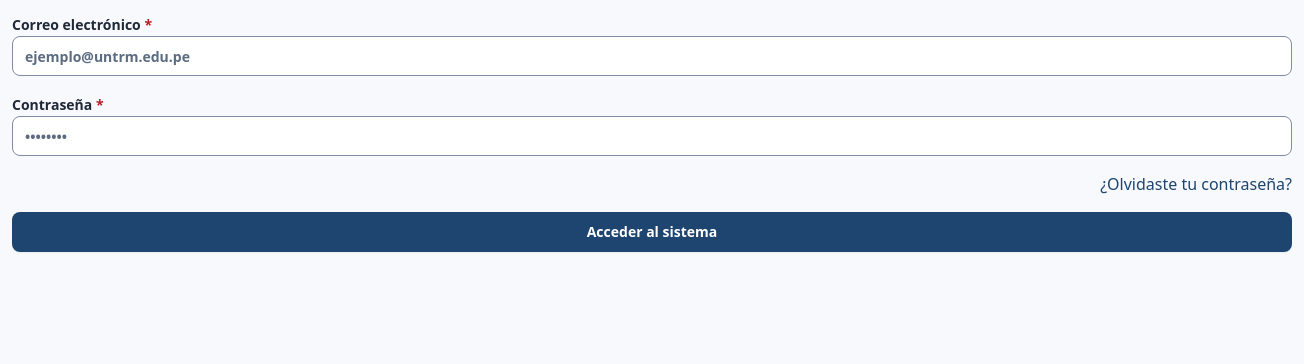
LoginForm component › shows generic credentials error on UNAUTHORIZED (CA2)
Type "usuario@untrm.edu.pe" into the field labelled "Correo electrónico *". click: coordinates (652, 56)
box: [12,36,1292,76]
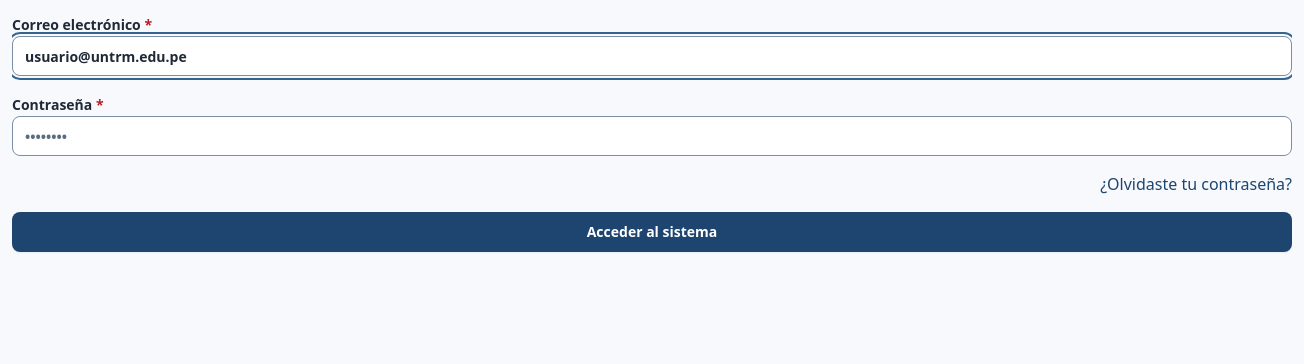
Type "ContraseñaInvalida123" into the password field labelled "Contraseña *". click: coordinates (652, 136)
box: [12,116,1292,156]
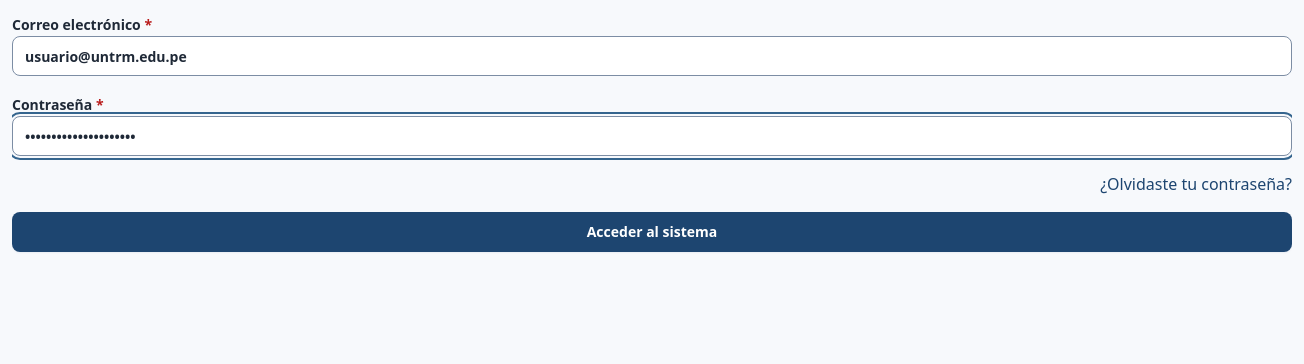
Click the button "Acceder al sistema". click: coordinates (652, 232)
box: [12,212,1292,252]
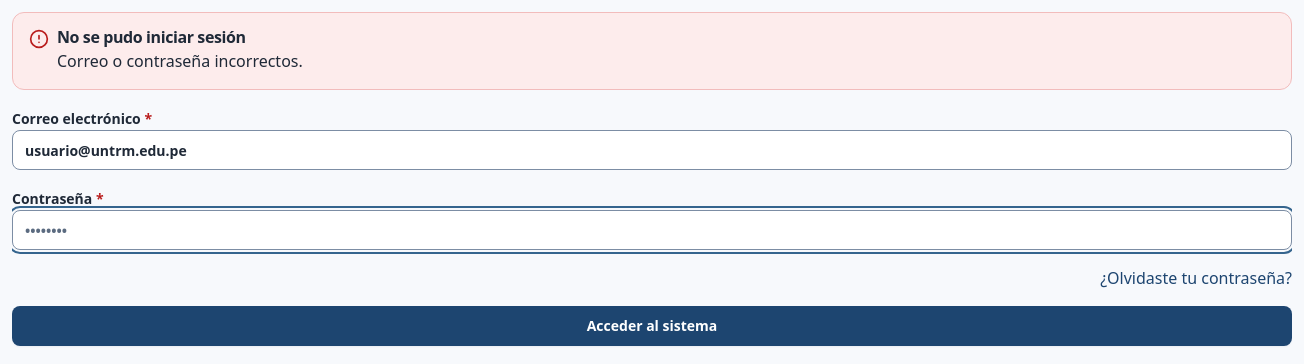
Now the message shows "Correo o contraseña incorrectos.", box [57,50,303,72]
